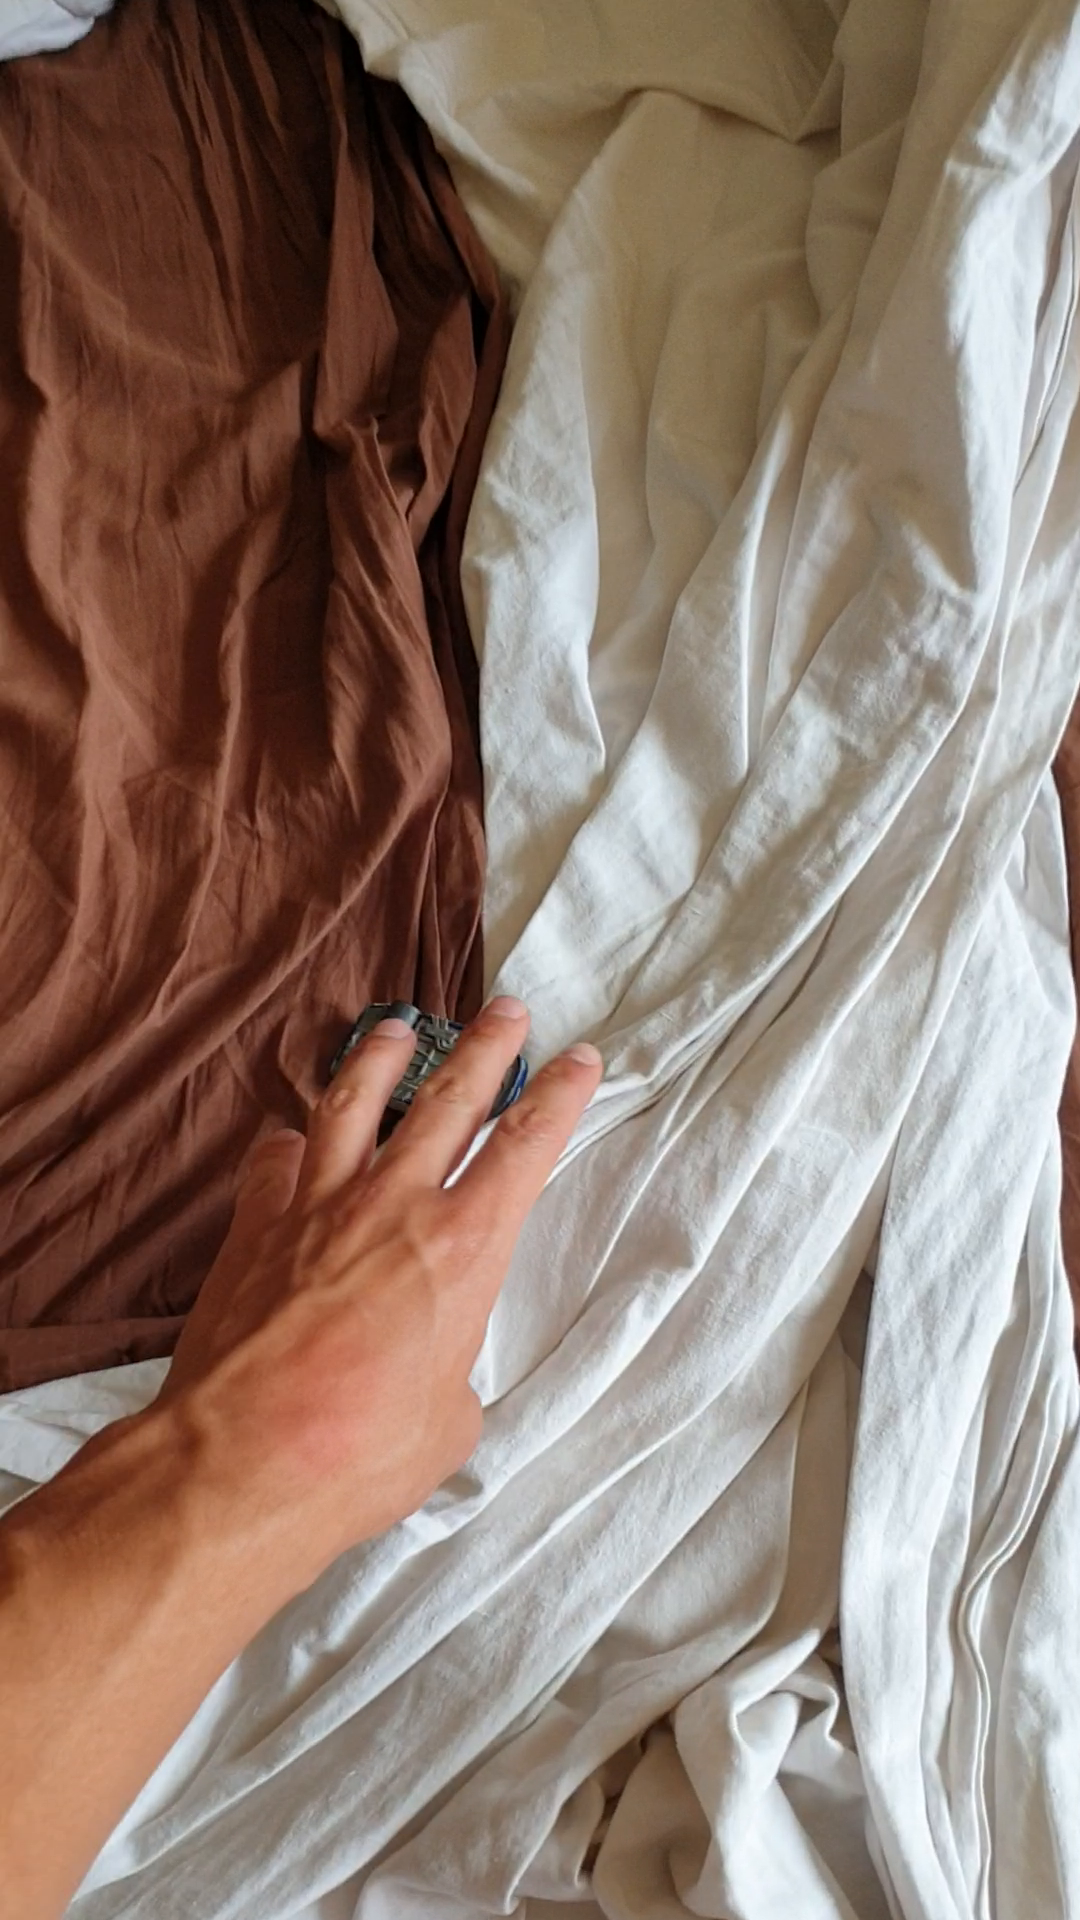cars: (322, 1002, 525, 1116)
